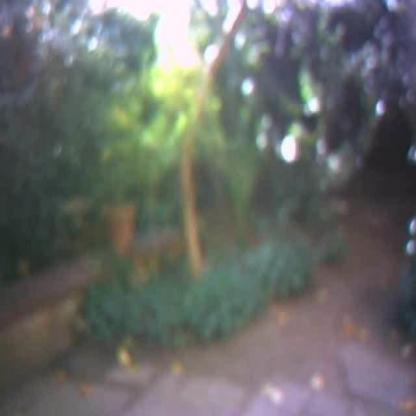other: (127, 13, 212, 124)
